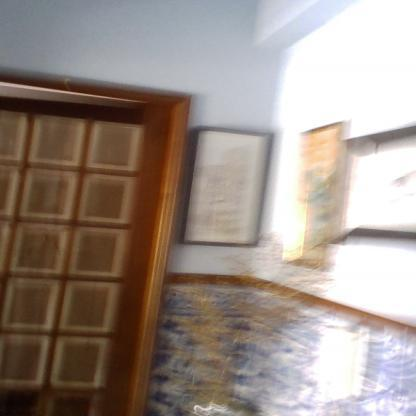door: (0, 93, 160, 416)
